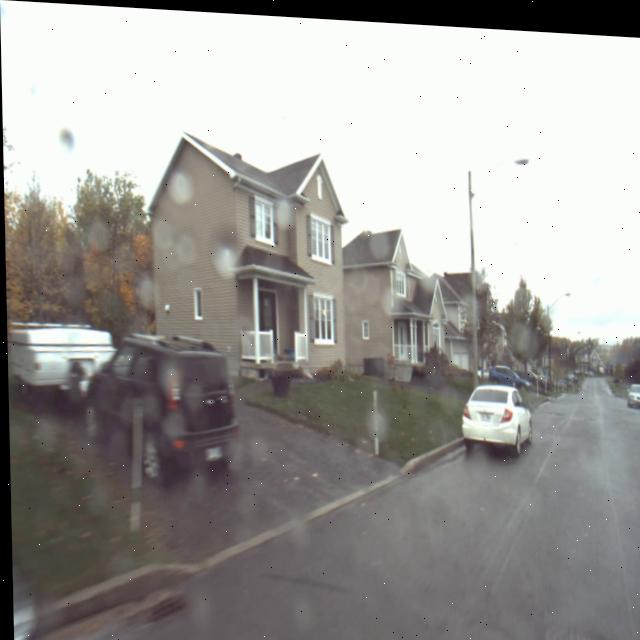car: (451, 361, 535, 460)
